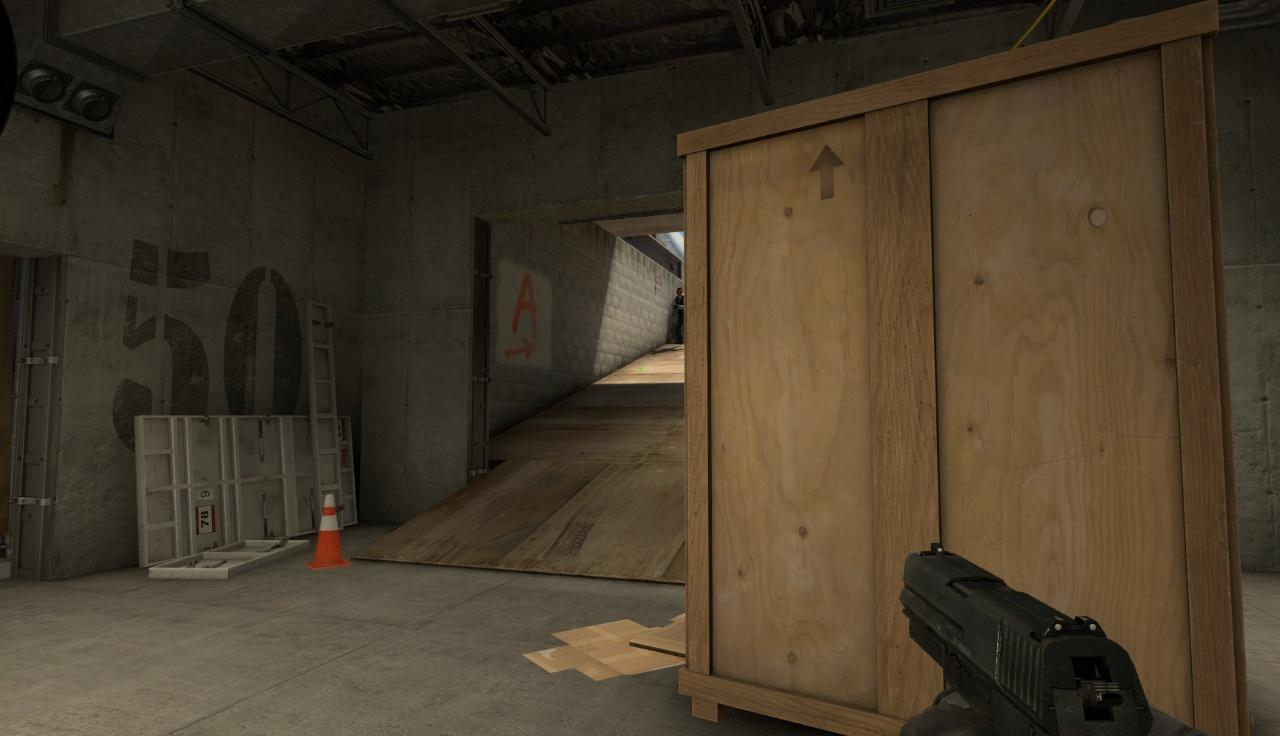pistol: (897, 539, 1156, 736)
tt: (673, 286, 684, 343)
tthead: (676, 288, 682, 296)
